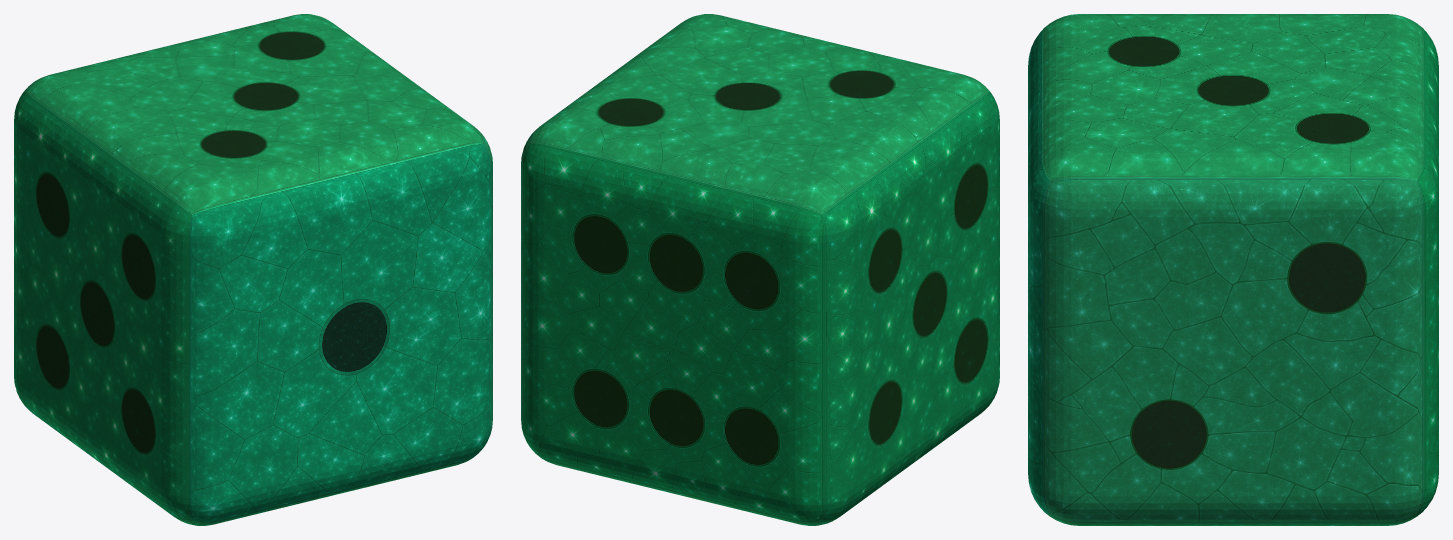
Rendered from GreenDice.fbx.
The picture shows the model from 3 angles, left to right: view 1: azimuth 30°, elevation 25°; view 2: azimuth 150°, elevation 25°; view 3: azimuth 270°, elevation 25°; orthographic projection. The views are drawn at different scales.
Parts seen in each view (by area): view 1: Cube; view 2: Cube; view 3: Cube.
Part boxes in pixels (left/top/right/bottom): Cube: left=14, top=14, right=492, bottom=525; Cube: left=521, top=14, right=999, bottom=525; Cube: left=1028, top=14, right=1438, bottom=525.
Size of the model in its own units: 200 by 200 by 200.
6 materials, 6 textured.
